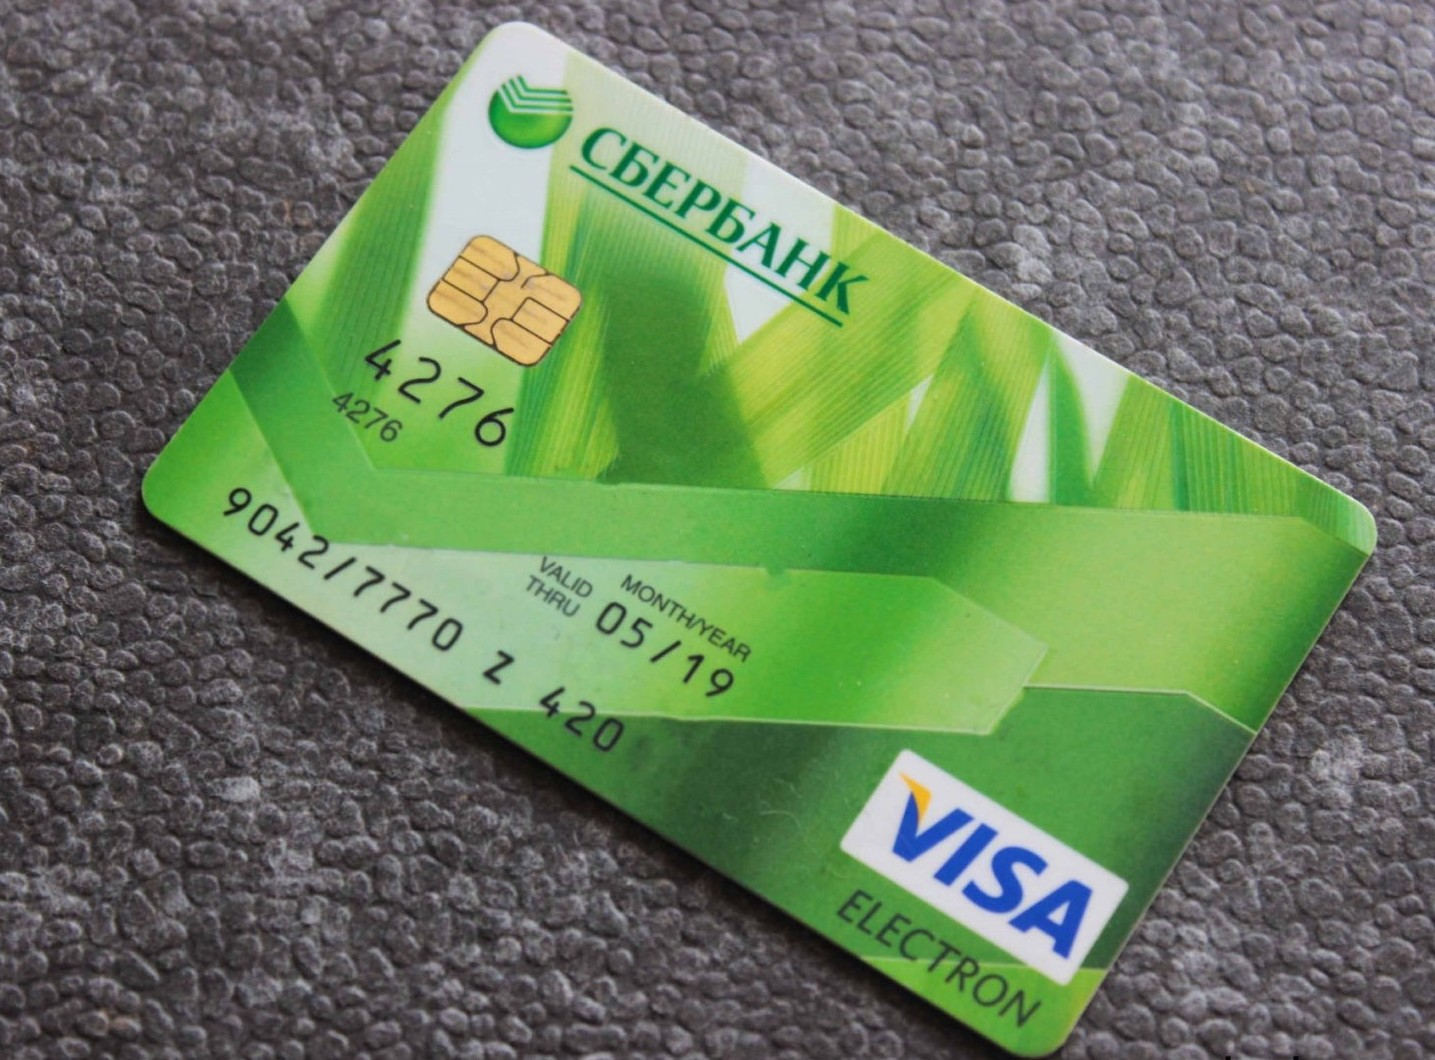card: (131, 14, 1394, 1053)
